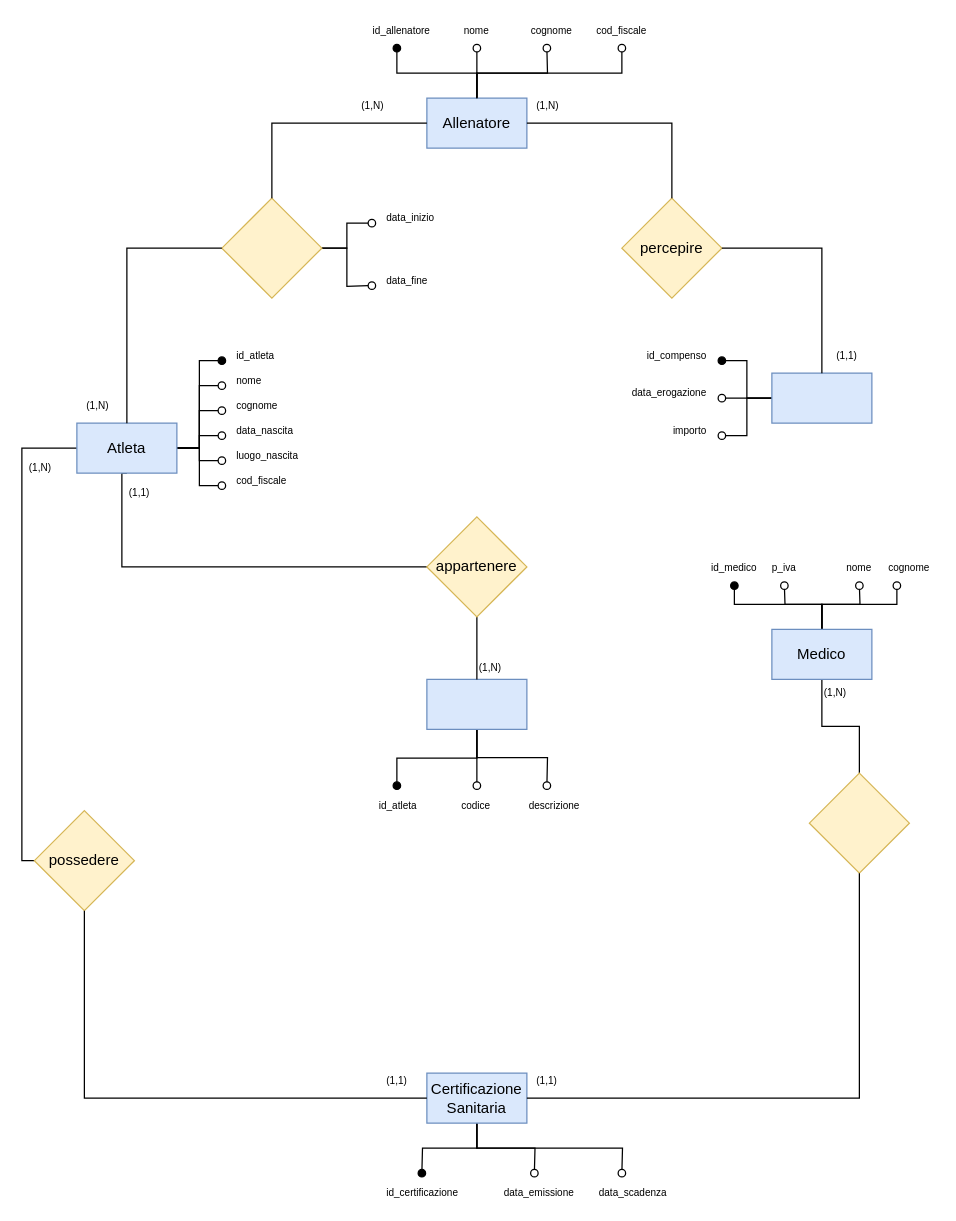
Image size: 956x1221. Some labels were removed from this diagram. The shapes that lost their labels are listed below. From the top down, each one's centre as x and y in pixels, then its label:
the point at 271,247: allenare
the point at 821,397: Compenso
the point at 476,703: Categoria
the point at 858,822: rilasciare
